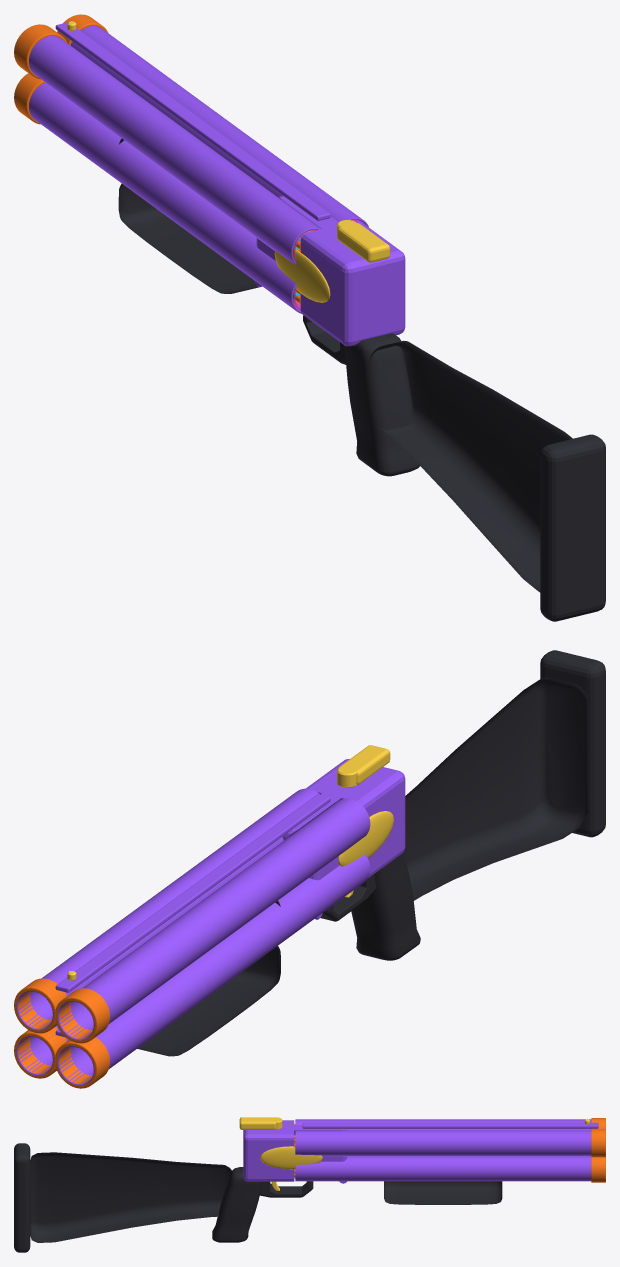
3 renders of one model, top to bottom at view 1: azimuth 30°, elevation 25°; view 2: azimuth 150°, elevation 25°; view 3: azimuth 270°, elevation 25°, orthographic. The views are drawn at different scales.
Visible parts, largest first — view 1: body, breach, mod_quad, latch; view 2: body, breach, mod_quad, latch; view 3: body, breach, mod_quad, latch.
Part boxes in pixels (x1=…): body: x1=254, y1=196, x2=605, y2=621; breach: x1=14, y1=14, x2=368, y2=265; mod_quad: x1=14, y1=73, x2=301, y2=313; latch: x1=337, y1=220, x2=390, y2=262; body: x1=282, y1=650, x2=605, y2=960; breach: x1=14, y1=788, x2=370, y2=1043; mod_quad: x1=14, y1=854, x2=370, y2=1088; latch: x1=337, y1=745, x2=390, y2=787; body: x1=14, y1=1120, x2=346, y2=1252; breach: x1=295, y1=1118, x2=605, y2=1157; mod_quad: x1=295, y1=1156, x2=605, y2=1204; latch: x1=239, y1=1117, x2=282, y2=1129.
Bounding box in the file's own units: 0.074 × 0.1895 × 0.8.
